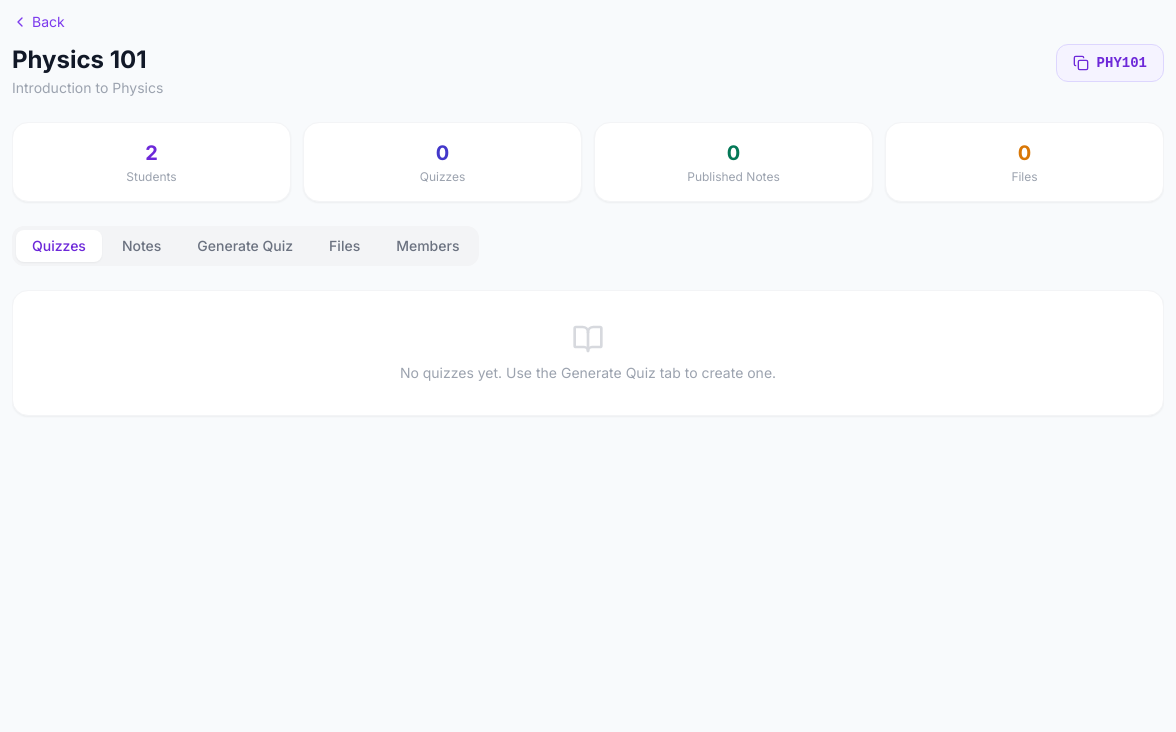
Test: ClassView - FEAT-002 › AC-2.3.2: displays list of enrolled students
Expected: the heading "Physics 101" is shown, left=12, top=44, right=163, bottom=76
// Click Members tab
Step 1. Click the button "Members" → coordinates (428, 246), box left=380, top=230, right=476, bottom=262
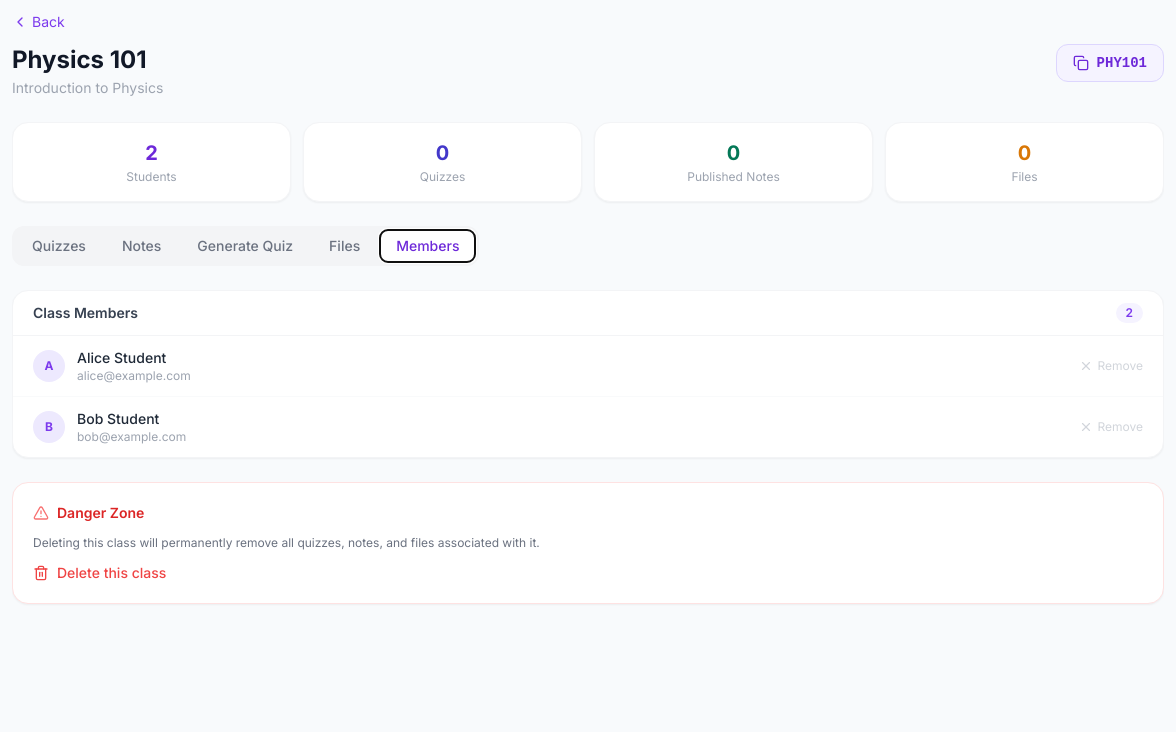
Expected: the text "Alice Student" is shown, left=77, top=349, right=166, bottom=366
Expected: the text "alice@example.com" is shown, left=77, top=368, right=191, bottom=383
Expected: the text "Bob Student" is shown, left=77, top=410, right=159, bottom=427
